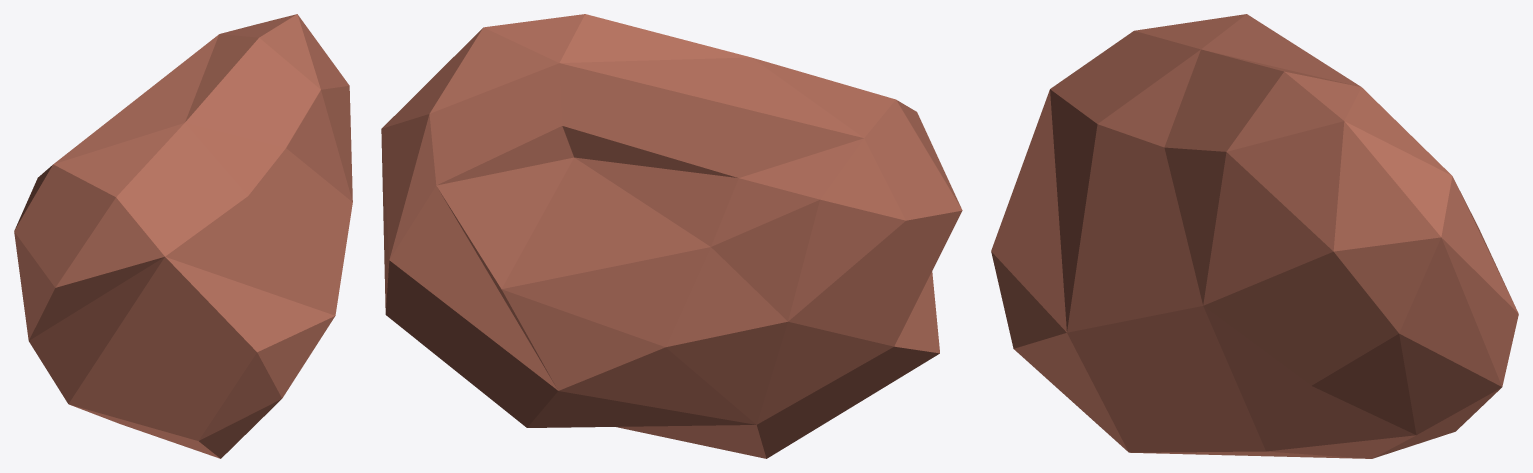
The model's file is Stone.fbx.
3 views of the same model, side by side, from view 1: azimuth 30°, elevation 25°; view 2: azimuth 150°, elevation 25°; view 3: azimuth 270°, elevation 25° (orthographic). The views are drawn at different scales.
Visible parts, largest first — view 1: LP Stone B; view 2: LP Stone B; view 3: LP Stone B.
Part boxes in pixels (x1=…): LP Stone B: x1=14, y1=14, x2=352, y2=458; LP Stone B: x1=381, y1=14, x2=962, y2=458; LP Stone B: x1=991, y1=14, x2=1518, y2=458.
Size of the model in its own units: 9.43 by 8.38 by 9.06.
